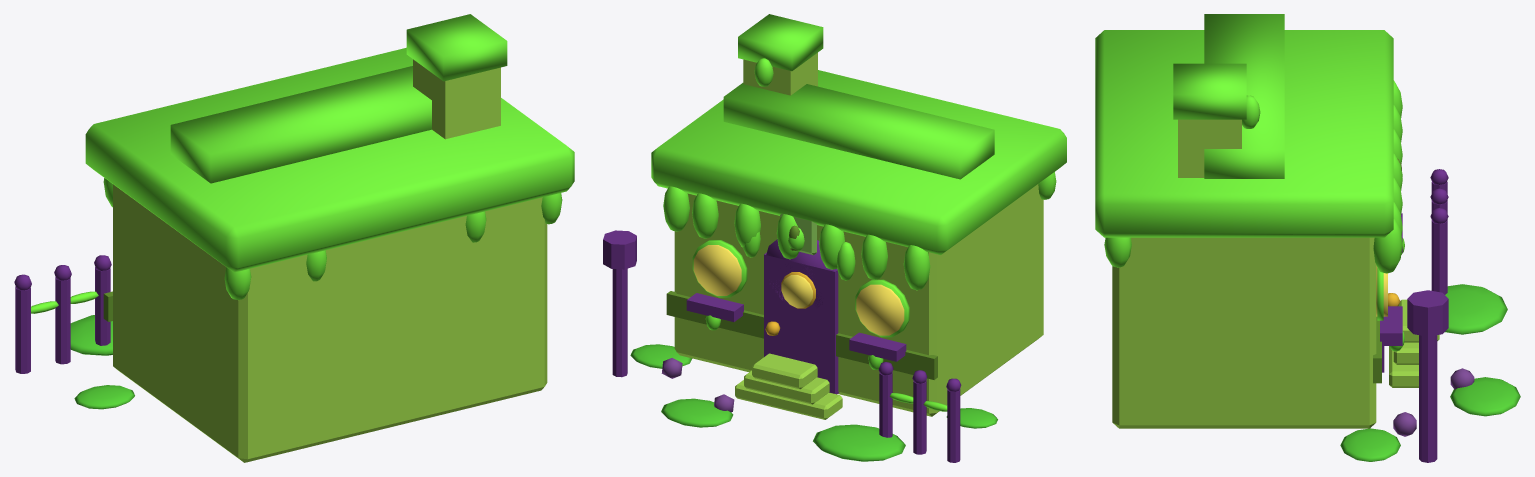
The model's file is SlimeHouse_Base.obj.
The picture shows the model from 3 angles, left to right: view 1: azimuth 30°, elevation 25°; view 2: azimuth 150°, elevation 25°; view 3: azimuth 270°, elevation 25°; orthographic projection. The views are drawn at different scales.
Parts seen in each view (by area): view 1: SlimeHouse_Base; view 2: SlimeHouse_Base; view 3: SlimeHouse_Base.
Boxes of the visible parts, box(x1,y1,x2,y2) form: SlimeHouse_Base: box(14, 14, 574, 462); SlimeHouse_Base: box(603, 14, 1066, 462); SlimeHouse_Base: box(1095, 14, 1520, 462).
Bounding box in the file's own units: 2.13 × 1.66 × 1.85.
